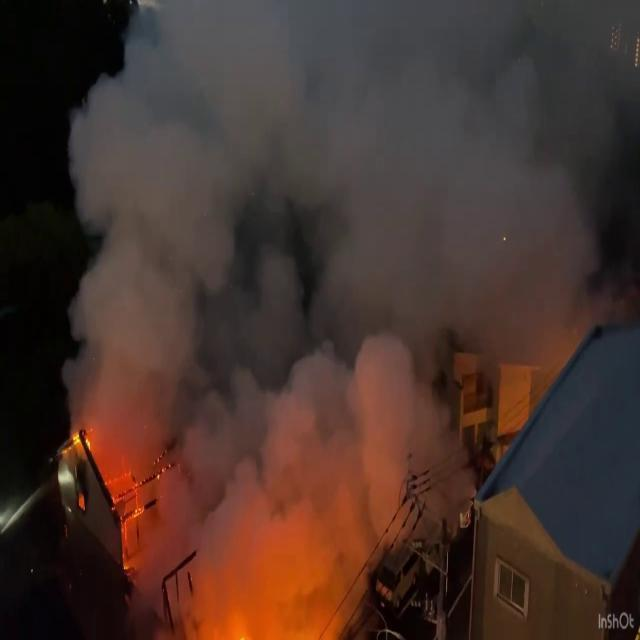Smoke: (59, 0, 638, 621)
